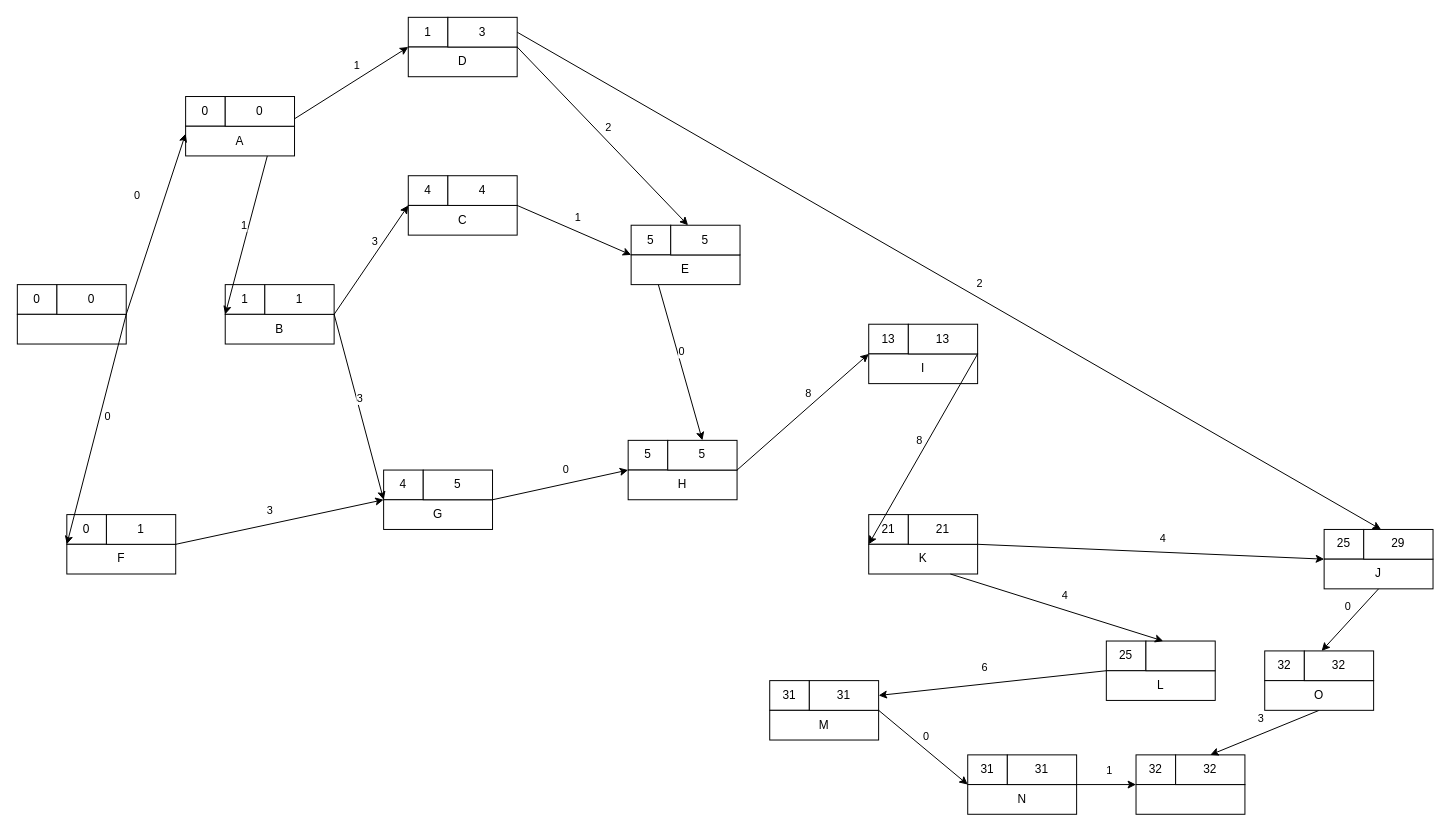
Some shapes in this 1450 by 832 pixel diagram are drawn without their labels. The shapes that lost their labels are listed below. From the top down, each one's box as (x1, y1, x2, y2) in pixels, then its label:
(16, 313, 126, 344): DEBUT
(1135, 784, 1245, 814): FIN
